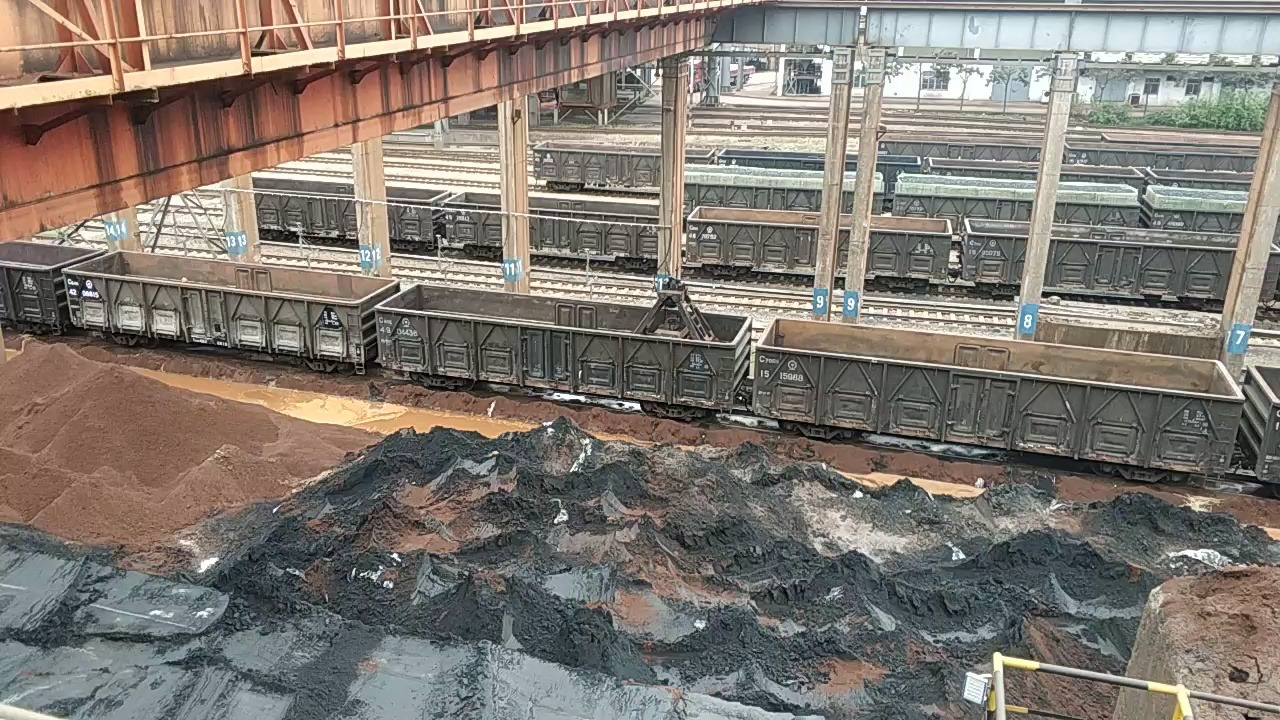grab: (627, 274, 722, 355)
